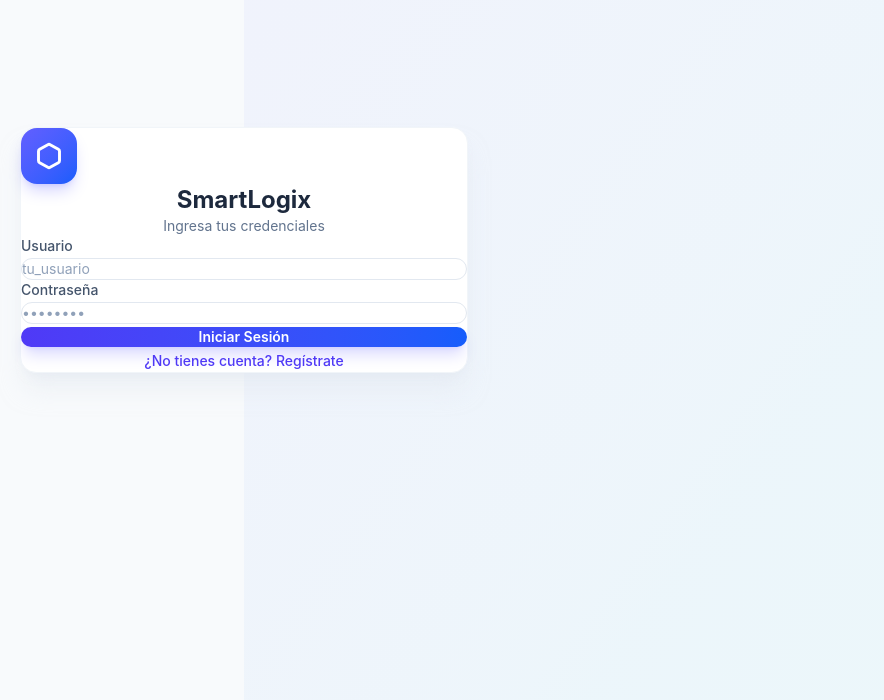
LoginContainer › shows error on failed login
Type "admin" into the field with placeholder "tu_usuario" at [244, 269], box x1=21 y1=258 x2=467 y2=280
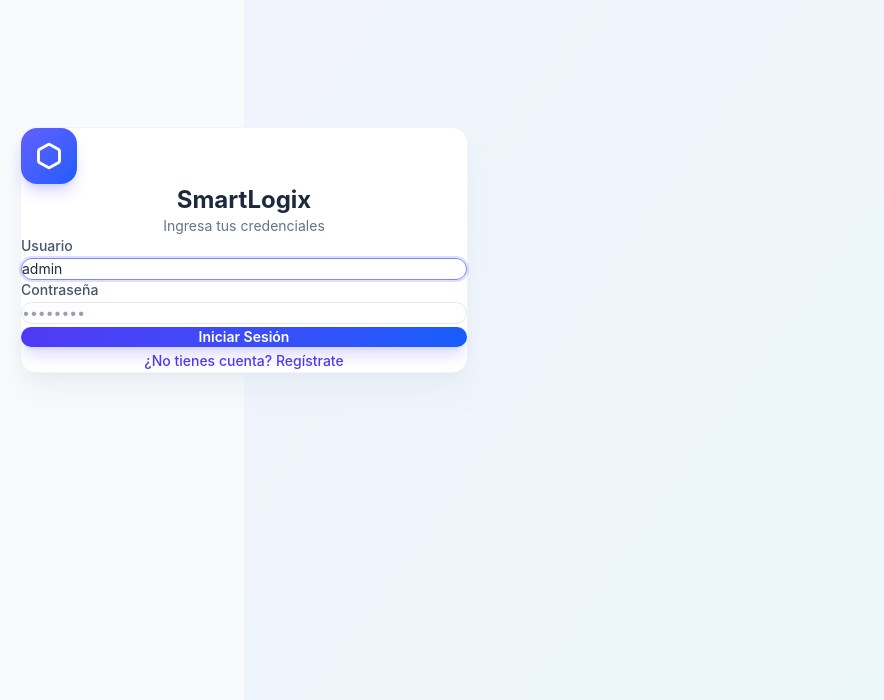
Type "wrong" into the password field with placeholder "••••••••" at [244, 313], box x1=21 y1=302 x2=467 y2=324
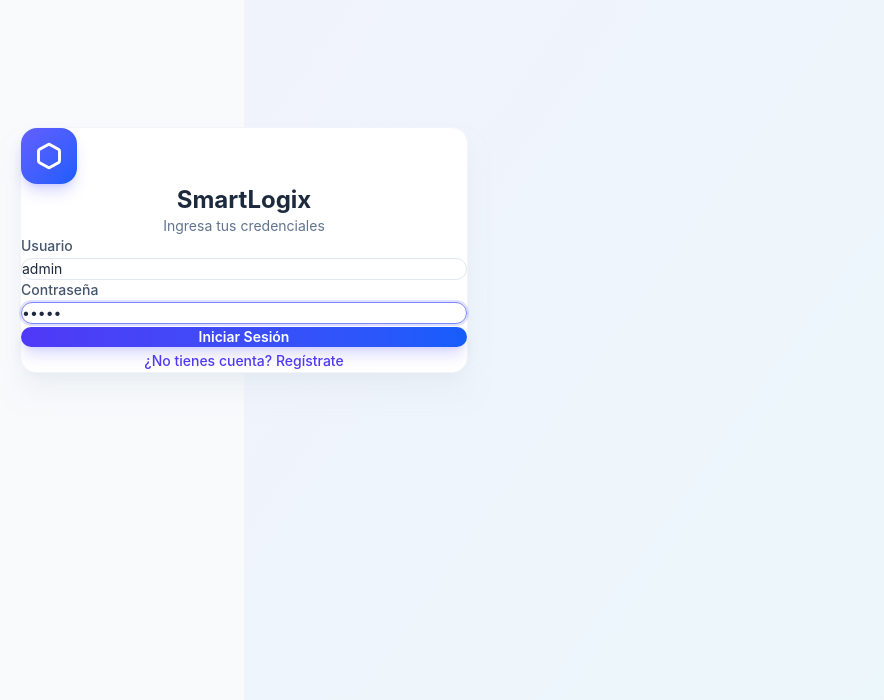
Click the button "Iniciar Sesión" at [244, 337], box x1=21 y1=327 x2=467 y2=347
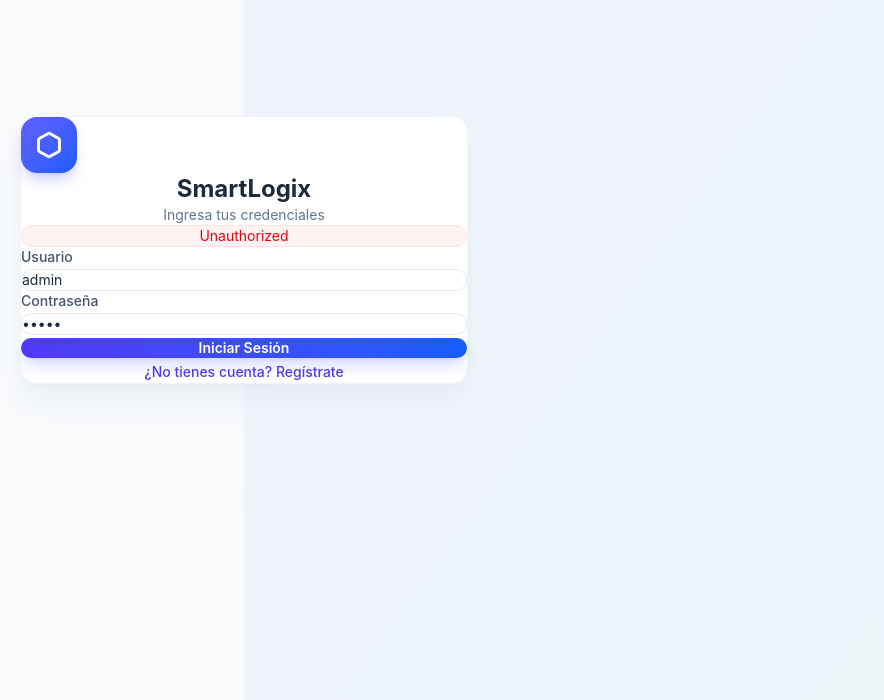
Now the text "Unauthorized" is shown, box x1=21 y1=225 x2=467 y2=247
